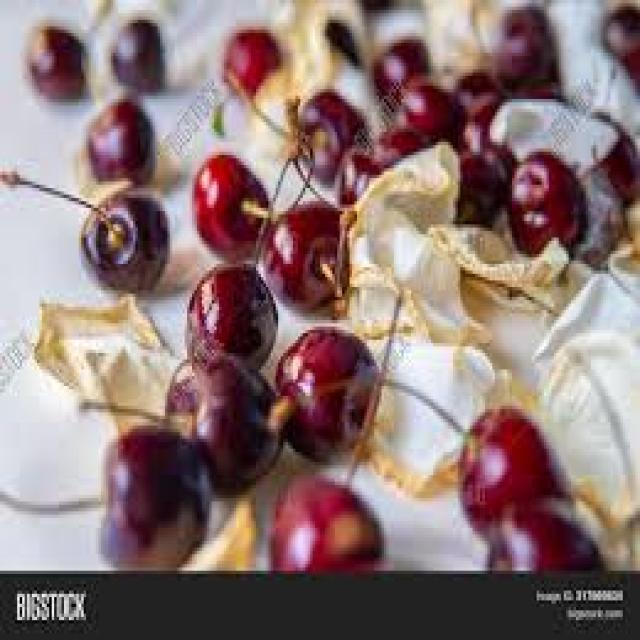biodegradable: (497, 314, 638, 558), (347, 139, 480, 343), (362, 323, 495, 485), (0, 165, 167, 287), (32, 290, 172, 432), (158, 347, 281, 489), (96, 425, 209, 561), (266, 327, 374, 459), (456, 403, 567, 531), (268, 462, 384, 564), (426, 221, 566, 304), (182, 251, 273, 363), (273, 198, 350, 313), (485, 495, 603, 567), (192, 152, 271, 251), (286, 82, 365, 175), (177, 492, 256, 571), (84, 96, 153, 178), (571, 472, 638, 554), (490, 3, 556, 86), (22, 23, 84, 96), (448, 139, 502, 221), (391, 82, 458, 142), (219, 23, 276, 92), (109, 17, 163, 89), (596, 4, 638, 83), (330, 138, 384, 198), (453, 70, 505, 116), (458, 102, 500, 152), (372, 129, 426, 162)
